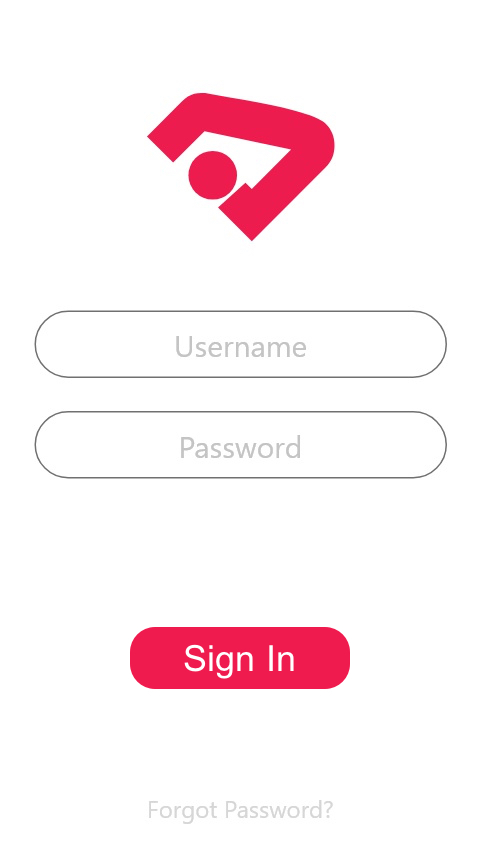EditText: (35, 310, 448, 379), (35, 411, 448, 480)
Image: (147, 93, 336, 243)
Text: (149, 799, 334, 825), (180, 434, 300, 460), (177, 337, 307, 359)
TextButton: (130, 627, 351, 690)
